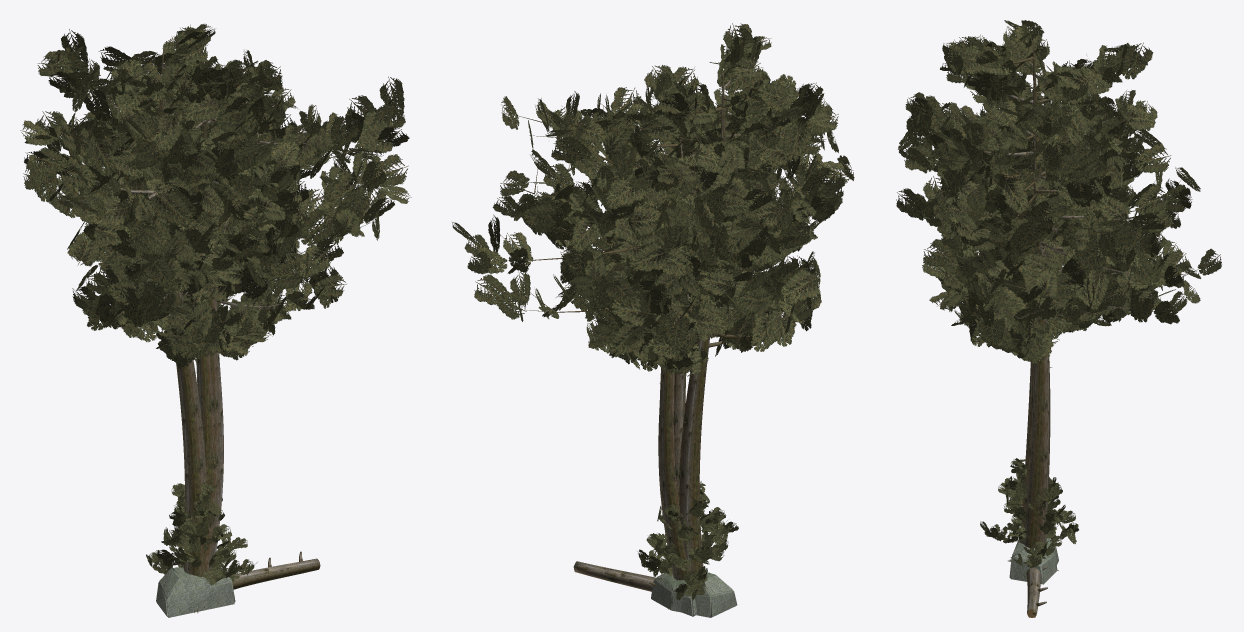
File: forest-kit.glb
3 views of the same model, side by side, from view 1: azimuth 30°, elevation 25°; view 2: azimuth 150°, elevation 25°; view 3: azimuth 270°, elevation 25° (orthographic). The views are drawn at different scales.
Visible parts, largest first — view 1: pine_b_needles, pine_a_needles, pine_c_needles, pine_sapling_needles, pine_b_wood, pine_c_wood, rock_a_stone, pine_a_wood, fallen_log_bark; view 2: pine_b_needles, pine_a_needles, pine_c_needles, pine_sapling_needles, pine_b_wood, pine_c_wood, rock_a_stone, pine_a_wood, fallen_log_bark; view 3: pine_c_needles, pine_a_needles, pine_b_needles, pine_c_wood, pine_sapling_needles, rock_a_stone, pine_b_wood, pine_a_wood, fallen_log_bark.
Boxes of the visible parts, box(x1,y1,x2,y2) form: pine_b_needles: box(20, 24, 292, 366); pine_a_needles: box(68, 50, 317, 360); pine_c_needles: box(67, 69, 411, 324); pine_sapling_needles: box(146, 483, 257, 585); pine_b_wood: box(33, 45, 287, 612); pine_c_wood: box(81, 93, 403, 607); rock_a_stone: box(156, 567, 235, 617); pine_a_wood: box(83, 84, 297, 612); fallen_log_bark: box(232, 551, 319, 589); pine_b_needles: box(592, 23, 854, 376); pine_a_needles: box(546, 66, 819, 371); pine_c_needles: box(452, 87, 749, 357); pine_sapling_needles: box(637, 481, 738, 600); pine_b_wood: box(623, 39, 846, 609); pine_c_wood: box(461, 98, 741, 580); rock_a_stone: box(651, 572, 737, 617); pine_a_wood: box(550, 80, 803, 502); fallen_log_bark: box(573, 561, 655, 591); pine_c_needles: box(922, 127, 1221, 347); pine_a_needles: box(923, 72, 1180, 363); pine_b_needles: box(896, 20, 1157, 345); pine_c_wood: box(938, 137, 1208, 548); pine_sapling_needles: box(980, 458, 1078, 567); rock_a_stone: box(1009, 538, 1057, 584); pine_b_wood: box(913, 40, 1147, 570); pine_a_wood: box(940, 96, 1172, 560); fallen_log_bark: box(1026, 566, 1047, 617).
Size of the model in its own units: 15.97 by 24.78 by 14.51.
Materials: 6 (6 with a texture image).
